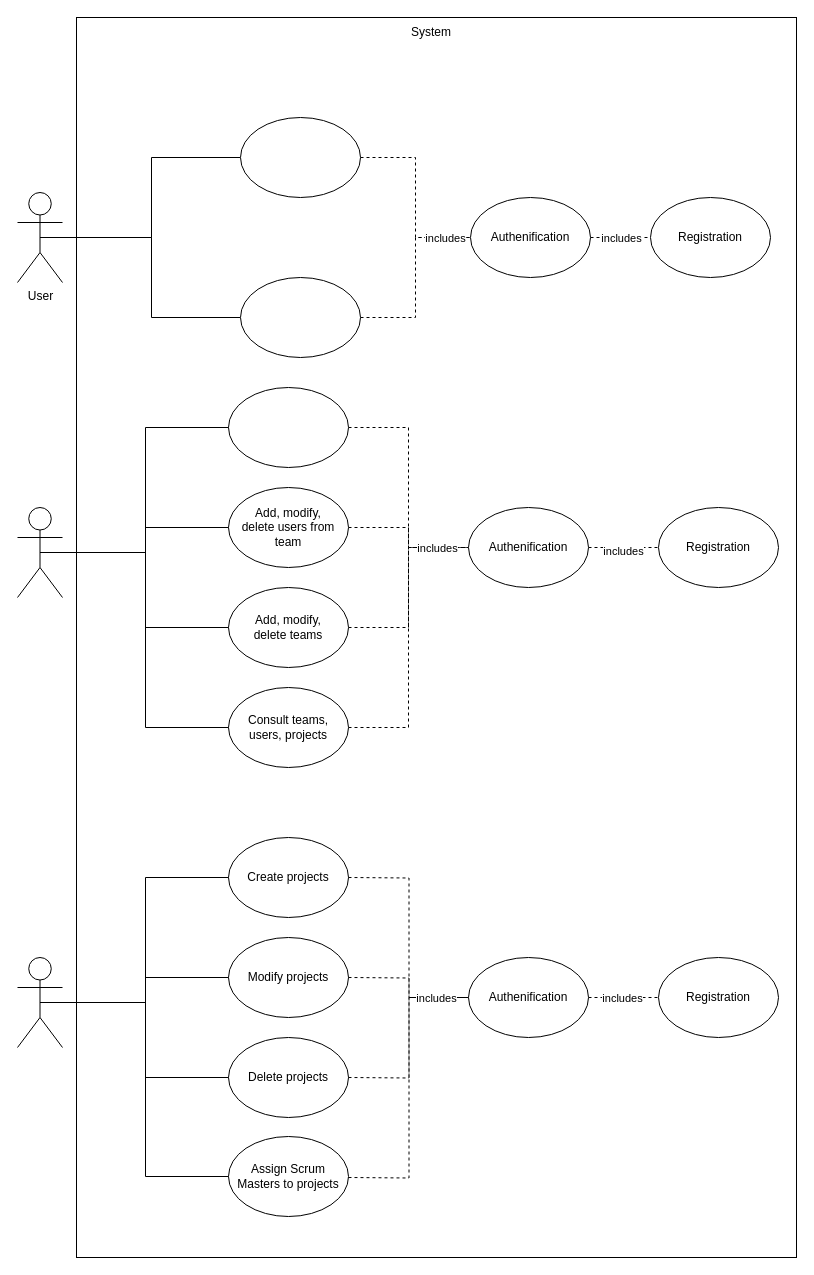
Image size: 814x1275. Some labels were removed from this diagram. The shapes that lost their labels are listed below. From the top down, each one's box as (x1, y1, x2, y2) in pixels, then its label:
(240, 116, 360, 198): Consult projects
(240, 276, 360, 358): Consult teams
(228, 386, 348, 468): Assign teams to projects
(16, 506, 62, 598): Scrum Master
(16, 956, 62, 1048): Product Owner
